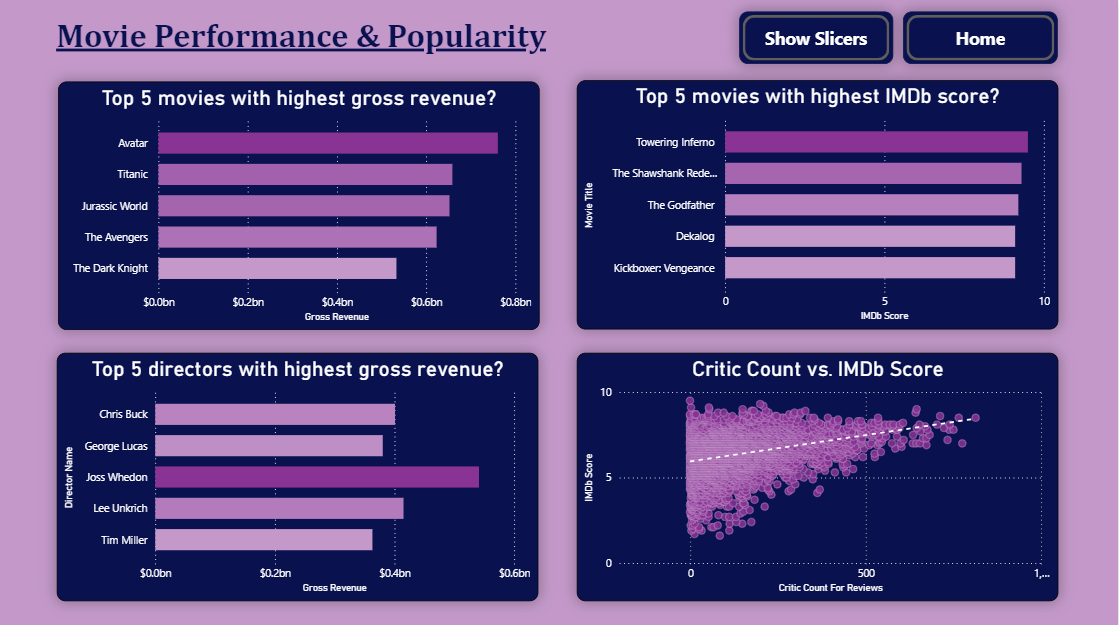

This screenshot's page, from the dashboard's own definition file:
{"tool":"powerbi","page":{"name":"Movie Performance & Popularity","canvas":[1280,720],"ordinal":1},"visuals":[{"type":"textbox","box":[61.4,14.3,594.3,61.4],"z":0},{"type":"barChart","title":"Top 5 movies with highest gross revenue?","fields":{"Category":["movie_data.movie_title"],"Y":["movie_data.gross"]},"box":[68.6,94.3,550,284.3],"z":1000},{"type":"barChart","title":"Top 5 movies with highest IMDb score?","fields":{"Category":["movie_data.movie_title"],"Y":["movie_data.imdb_score"]},"box":[661.2,92.5,550,285],"z":2000},{"type":"barChart","title":"Top 5 directors with highest gross revenue?","fields":{"Category":["movie_data.director_name"],"Y":["movie_data.gross"]},"box":[67.1,404.3,550,284.3],"z":3000},{"type":"scatterChart","title":"Critic Count vs. IMDb Score","fields":{"Y":["movie_data.imdb_score"],"X":["movie_data.num_critic_for_reviews"]},"box":[661.4,404.3,550,284.3],"z":4000},{"type":"actionButton","title":"Home Button","box":[1034.3,14.3,177.1,60],"z":6000},{"type":"actionButton","title":"Show Slicer Button","box":[847.1,14.3,175.7,60],"z":7000}]}

Visuals, with their boxes in screenshot pixels (x1, y1, x2, y2), scaled from the page's 1280x720 canvas onto the 1119x625 screenshot:
textbox: bbox=(54, 12, 573, 66)
"Top 5 movies with highest gross revenue?" barChart: bbox=(60, 82, 541, 329)
"Top 5 movies with highest IMDb score?" barChart: bbox=(578, 80, 1059, 328)
"Top 5 directors with highest gross revenue?" barChart: bbox=(59, 351, 539, 598)
"Critic Count vs. IMDb Score" scatterChart: bbox=(578, 351, 1059, 598)
"Home Button" actionButton: bbox=(904, 12, 1059, 64)
"Show Slicer Button" actionButton: bbox=(741, 12, 894, 64)
